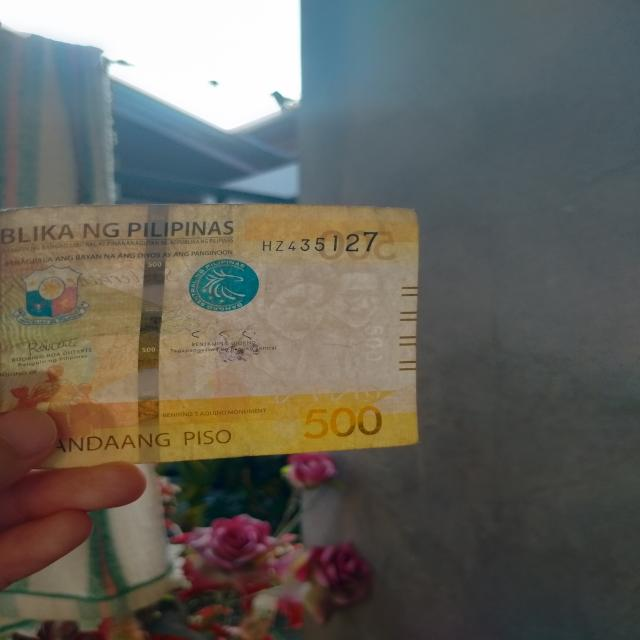security_thread: (137, 201, 181, 463)
see_through_mark: (258, 378, 382, 406)
serial_number: (251, 221, 383, 260)
value_watermark: (354, 316, 388, 368)
watermark: (235, 251, 384, 393)
